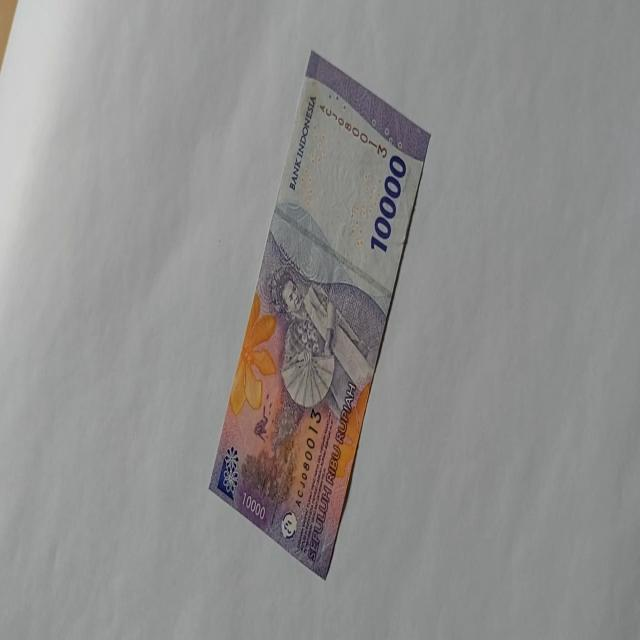sepuluh ribu rupiah: (206, 48, 432, 580)
